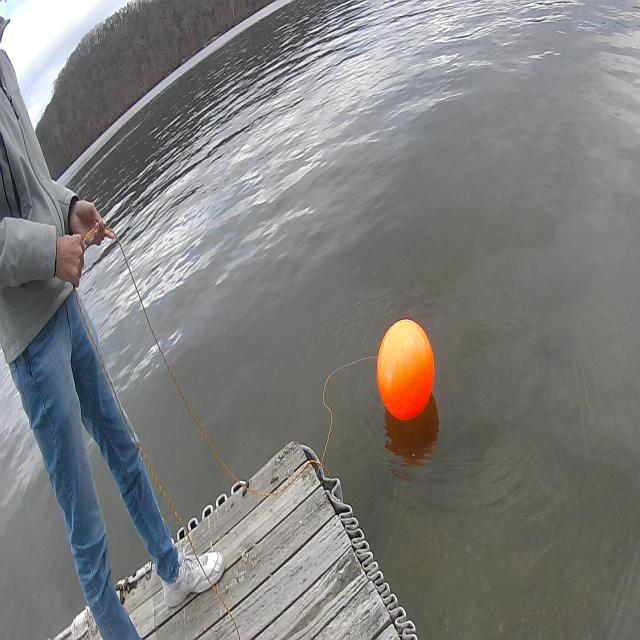Buoy: (369, 312, 440, 431)
